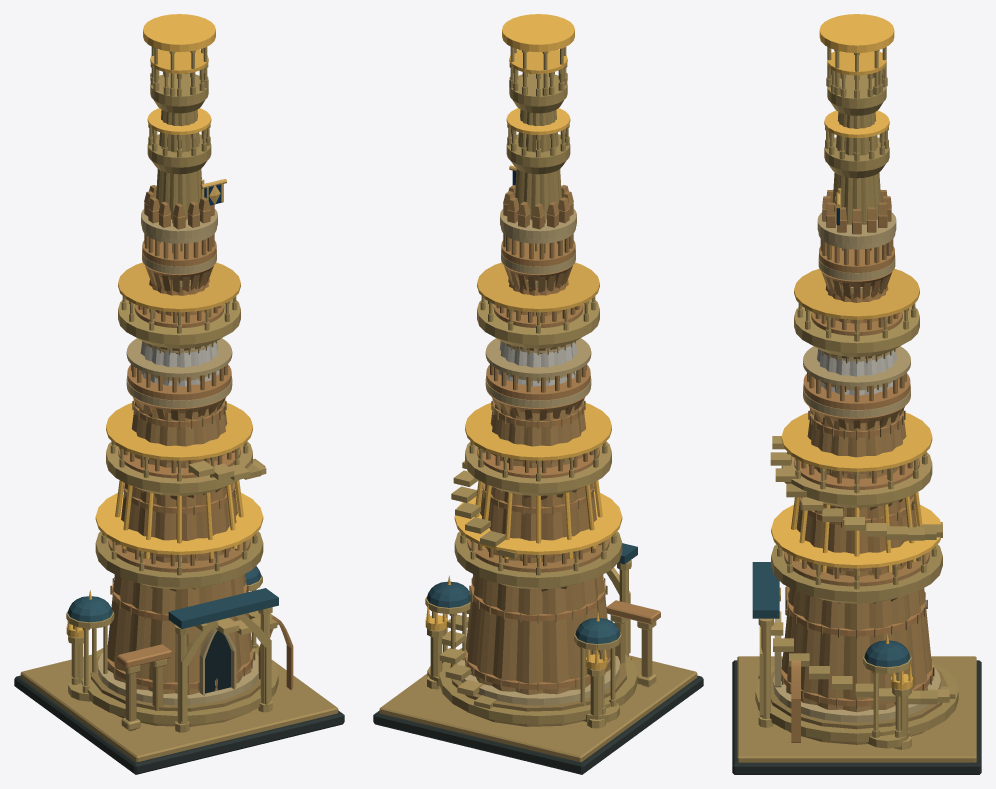
3 views of the same model, side by side, from view 1: azimuth 30°, elevation 25°; view 2: azimuth 150°, elevation 25°; view 3: azimuth 270°, elevation 25° (orthographic). The views are drawn at different scales.
Parts seen in each view (by area): view 1: archer_tower_L13_0, archer_tower_L13_1; view 2: archer_tower_L13_0, archer_tower_L13_1; view 3: archer_tower_L13_0, archer_tower_L13_1.
Boxes of the visible parts, x1,y1,x2,y2 form: archer_tower_L13_0: [14, 47, 344, 774]; archer_tower_L13_1: [66, 14, 263, 637]; archer_tower_L13_0: [373, 47, 703, 774]; archer_tower_L13_1: [425, 14, 622, 669]; archer_tower_L13_0: [732, 47, 981, 774]; archer_tower_L13_1: [771, 14, 941, 689].
Size of the model in its own units: 3.6 by 11.05 by 3.6.
